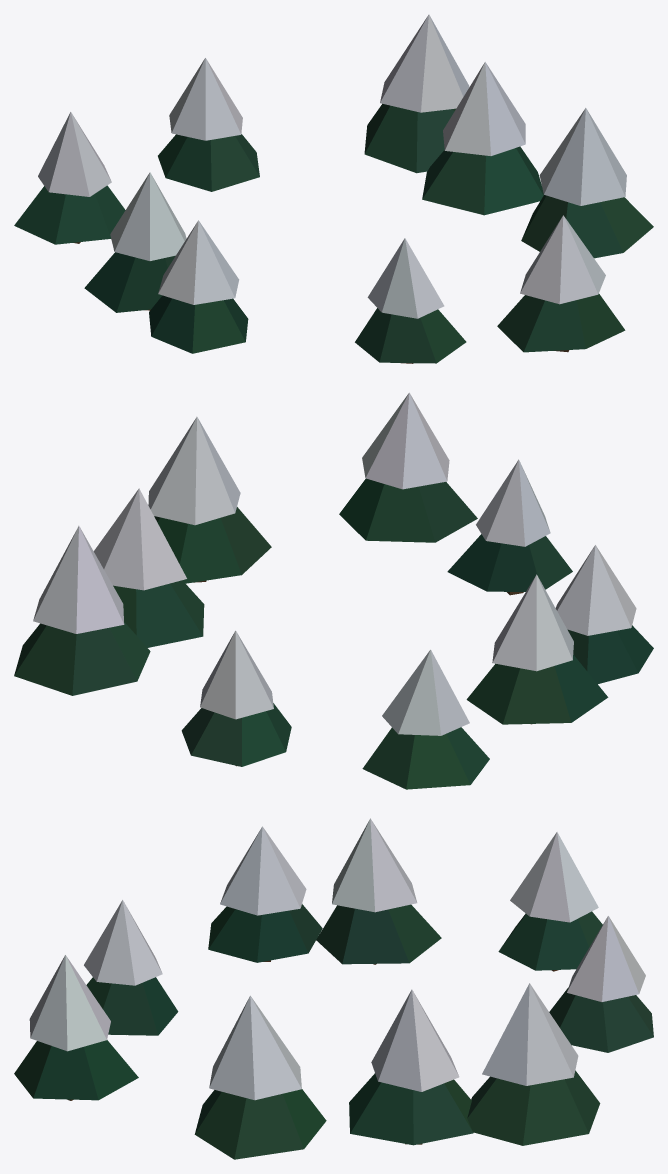
Rendered from ForestT2.glb.
3 renders of one model, top to bottom at view 1: azimuth 30°, elevation 25°; view 2: azimuth 150°, elevation 25°; view 3: azimuth 270°, elevation 25°, orthographic. The views are drawn at different scales.
Visible parts, largest first — view 1: ForestT2; view 2: ForestT2; view 3: ForestT2.
Part boxes in pixels (x1,y1,x2,y2): ForestT2: (14, 14, 653, 363); ForestT2: (14, 392, 653, 789); ForestT2: (14, 818, 653, 1159).
Bounding box in the file's own units: 1.49 × 0.4419 × 1.63.
